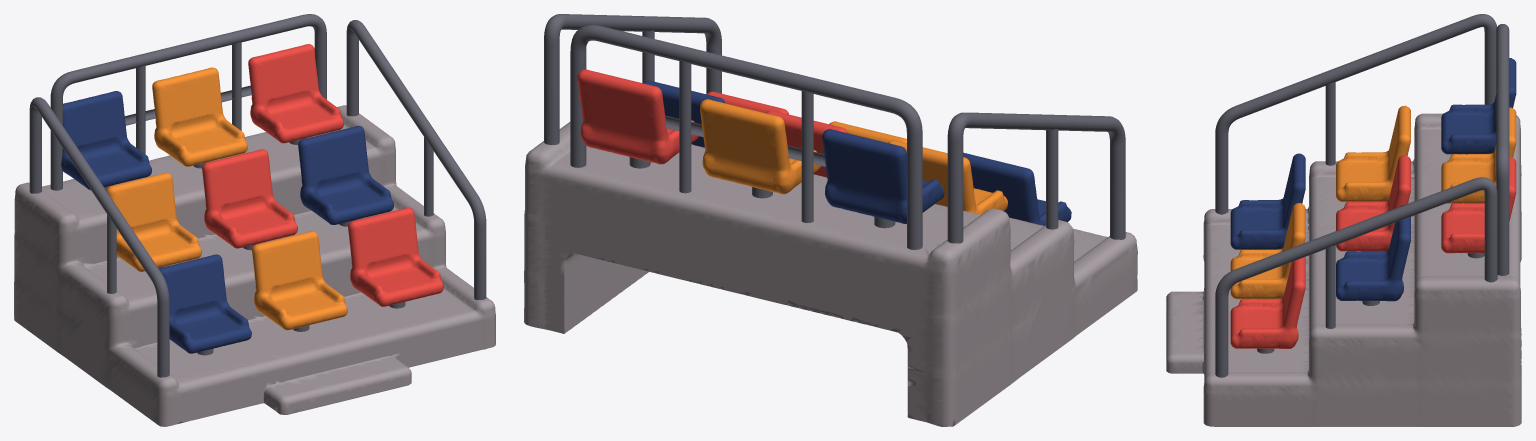
Rendered from arquibancada.glb.
3 renders of one model, left to right at view 1: azimuth 30°, elevation 25°; view 2: azimuth 150°, elevation 25°; view 3: azimuth 270°, elevation 25°, orthographic. The views are drawn at different scales.
Visible parts, largest first — view 1: estrutura, assentos, corrimao; view 2: estrutura, assentos, corrimao; view 3: estrutura, assentos, corrimao.
Part boxes in pixels (left/top/right/bottom): estrutura: left=14, top=105, right=495, bottom=426; assentos: left=61, top=44, right=443, bottom=353; corrimao: left=29, top=14, right=486, bottom=377; estrutura: left=524, top=122, right=1137, bottom=426; assentos: left=577, top=69, right=1071, bottom=225; corrimao: left=544, top=14, right=1125, bottom=249; estrutura: left=1166, top=113, right=1521, bottom=426; assentos: left=1230, top=58, right=1516, bottom=348; corrimao: left=1215, top=14, right=1509, bottom=377.
Bounding box in the file's own units: 2.82 × 1.91 × 2.43.
